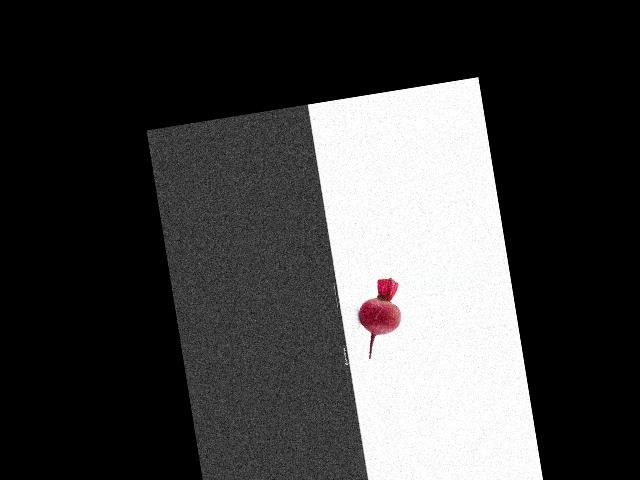beet: (353, 276, 408, 359)
